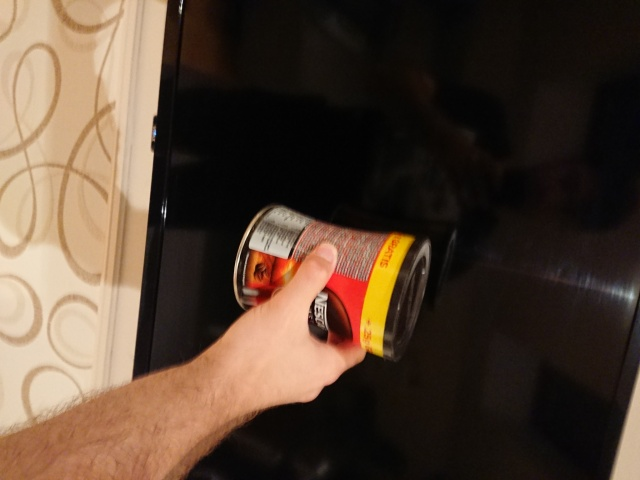Nescafe Classic 225g: (229, 200, 434, 366)
